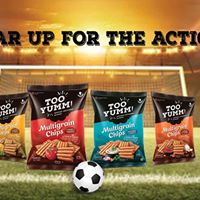plastic: (29, 84, 88, 166), (91, 91, 147, 161), (155, 94, 197, 159), (1, 91, 26, 158)
tooyumm: (40, 93, 75, 115), (103, 99, 134, 116), (160, 102, 188, 119), (1, 103, 19, 117)
wrapper: (92, 92, 196, 163), (2, 87, 87, 164)
